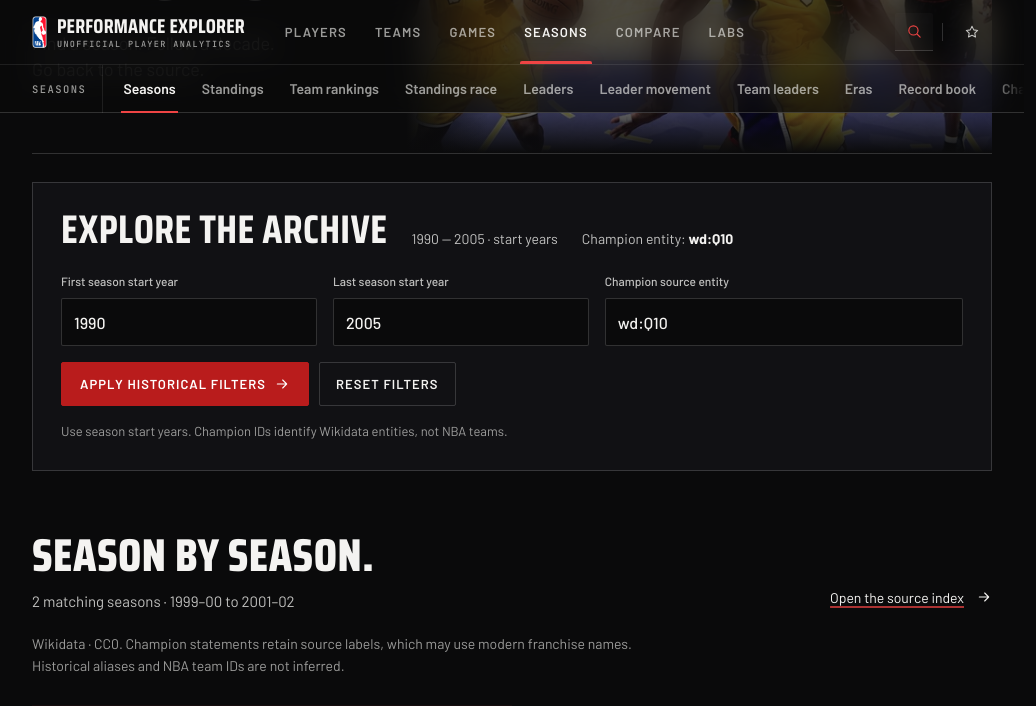
Test: historical navigator › resets URL filters and input values together without changing source meanings
This screenshot has width=1036, height=706.
(page scrolled)
Check: the text "2 matching seasons · 1999–00 to 2001–02" is shown, box [32, 592, 295, 610]
Step 1. Click the button "Reset filters" → (387, 384), box [319, 362, 456, 406]
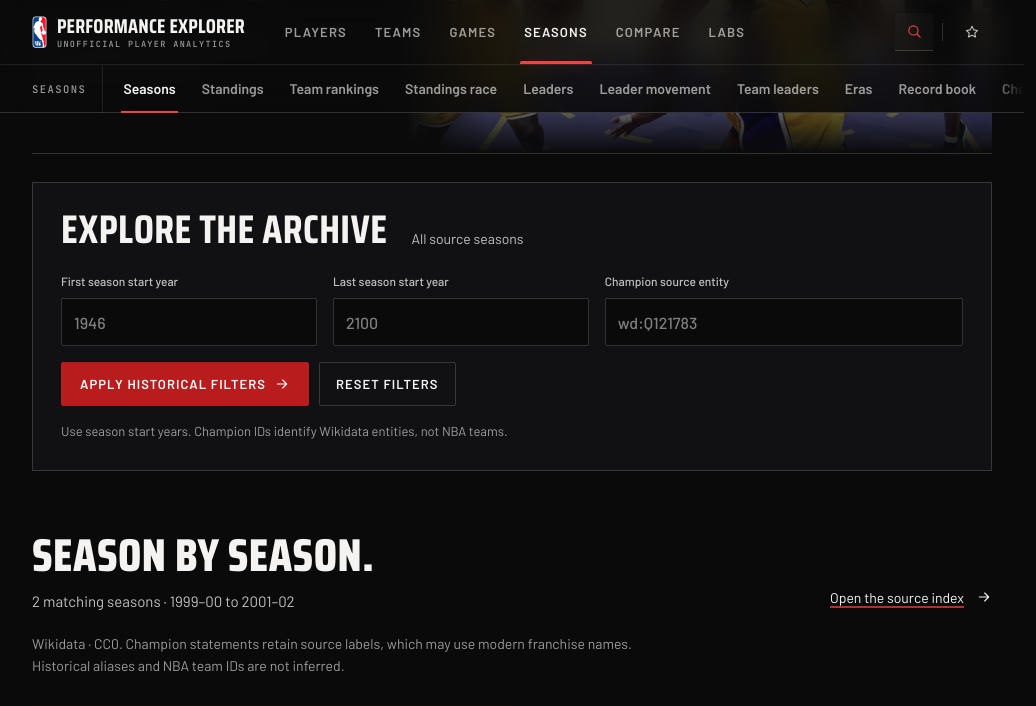
Check: the number field labelled "First season start year" is not empty, box [61, 298, 317, 346]
Check: the field labelled "Champion source entity" is empty, box [605, 298, 963, 346]
